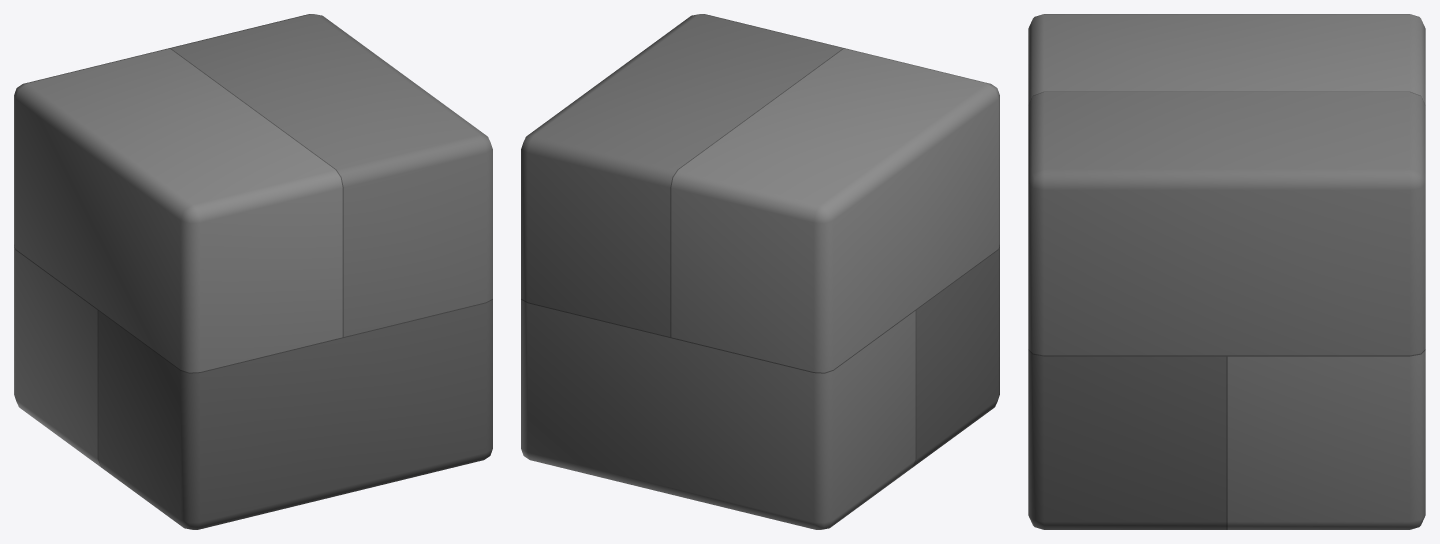
The model's file is HouseCube_03.fbx.
The picture shows the model from 3 angles, left to right: view 1: azimuth 30°, elevation 25°; view 2: azimuth 150°, elevation 25°; view 3: azimuth 270°, elevation 25°; orthographic projection. The views are drawn at different scales.
Parts seen in each view (by area): view 1: HouseCube_03; view 2: HouseCube_03; view 3: HouseCube_03.
Boxes of the visible parts, x1,y1,x2,y2 form: HouseCube_03: [14, 14, 492, 529]; HouseCube_03: [521, 14, 999, 529]; HouseCube_03: [1028, 14, 1425, 529].
Size of the model in its own units: 1 by 1 by 1.
